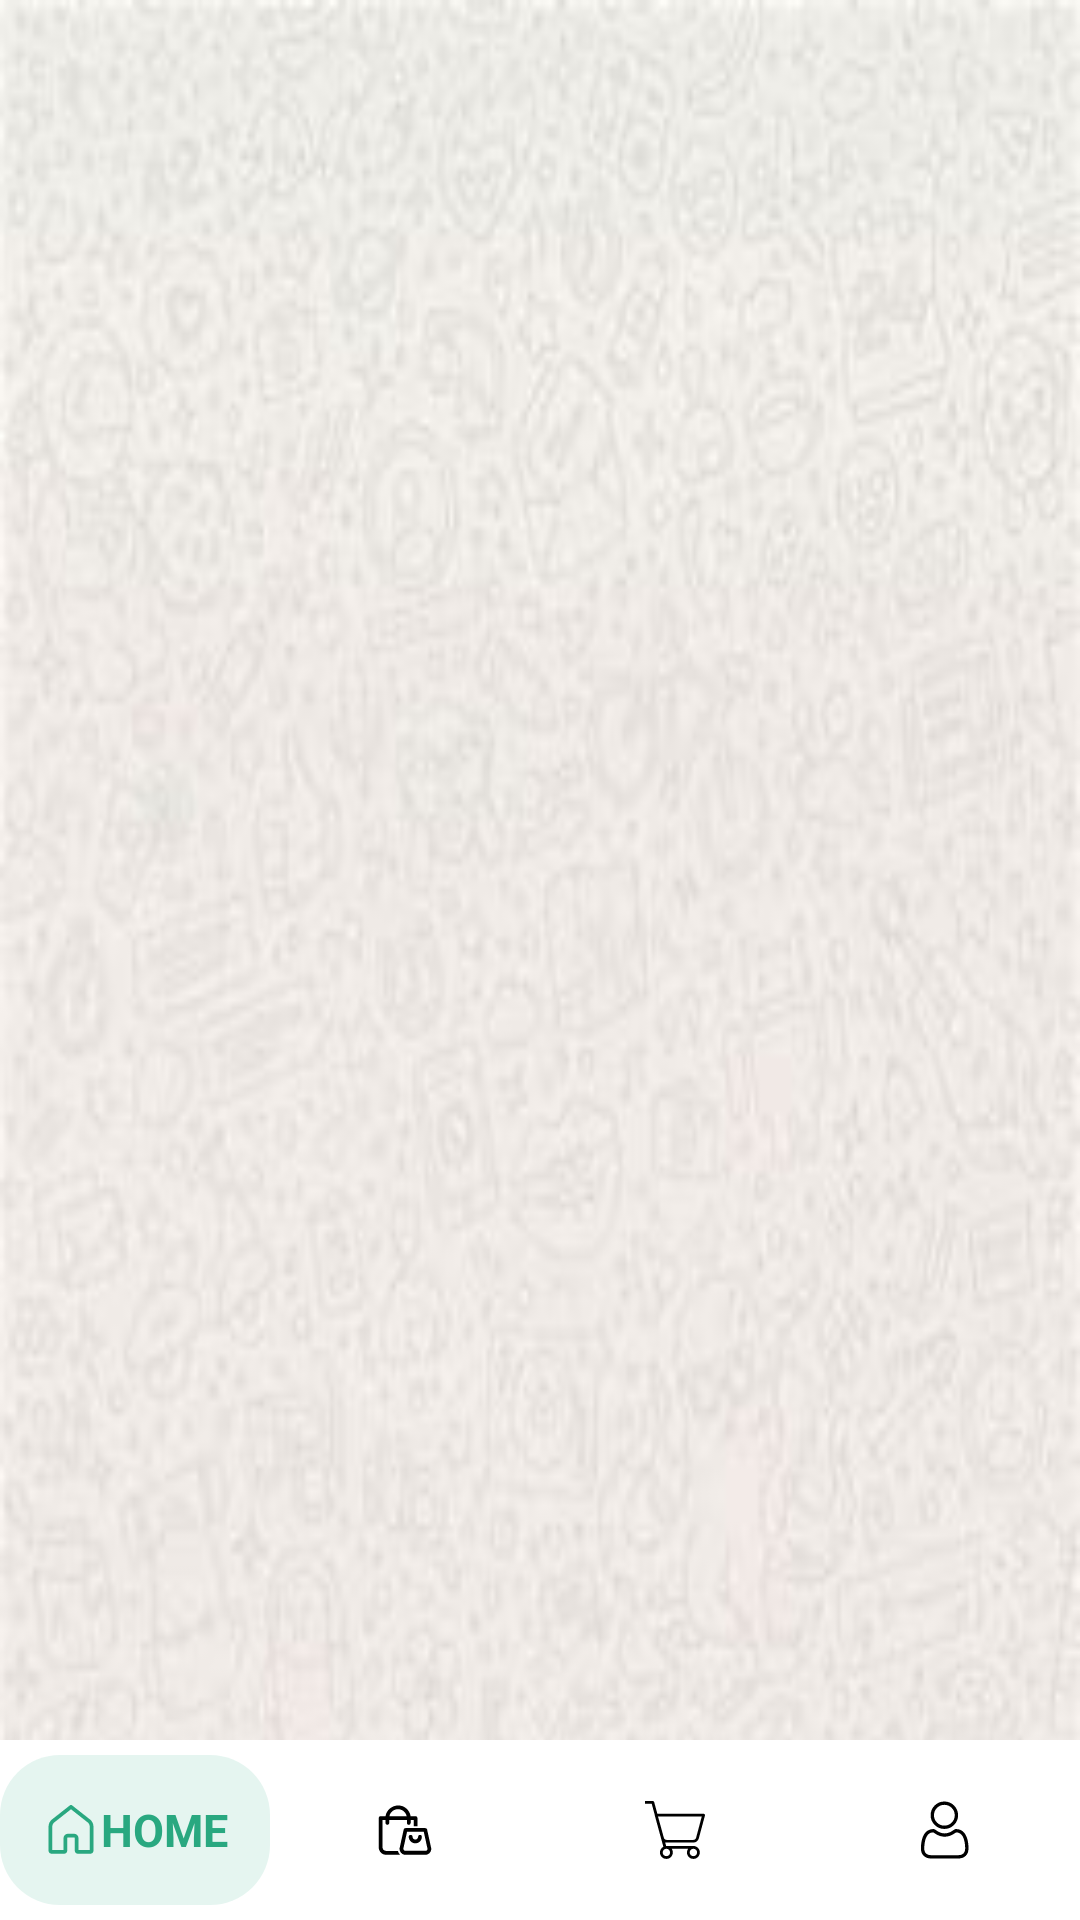

Icon click points for this 1080x1920 phone screenshot, format point (x, y):
cart: point (675, 1830)
order: point (405, 1830)
profile: point (945, 1830)
